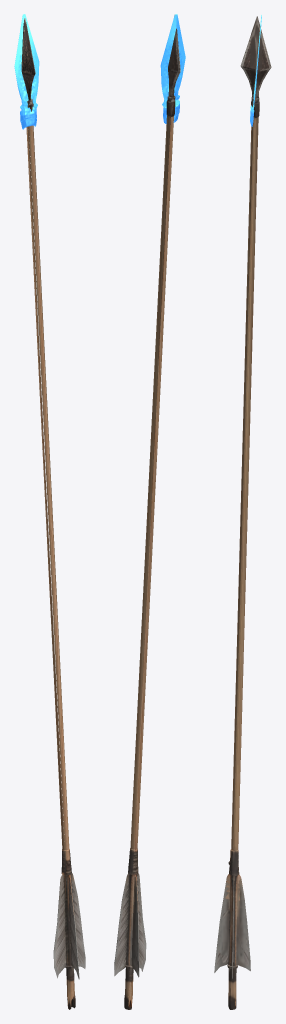
Rendered from weapon-arrow-ice-v001.glb.
3 views of the same model, side by side, from view 1: azimuth 30°, elevation 25°; view 2: azimuth 210°, elevation 25°; view 3: azimuth 270°, elevation 25° (orthographic).
Visible parts, largest first — view 1: arrow-ice-body, arrow-ice-tip; view 2: arrow-ice-body, arrow-ice-tip; view 3: arrow-ice-body, arrow-ice-tip.
Part boxes in pixels (x1,y1,x2,y2): arrow-ice-body: (21,18,85,1009); arrow-ice-tip: (14,14,39,129); arrow-ice-body: (114,28,180,1009); arrow-ice-tip: (160,14,185,123); arrow-ice-body: (214,16,271,1009); arrow-ice-tip: (250,15,261,126).
Bounding box in the file's own units: 0.0583 × 0.942 × 0.0497.
Materials: 2 (2 with a texture image).
